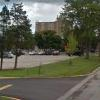Tree: (52, 0, 100, 71)
